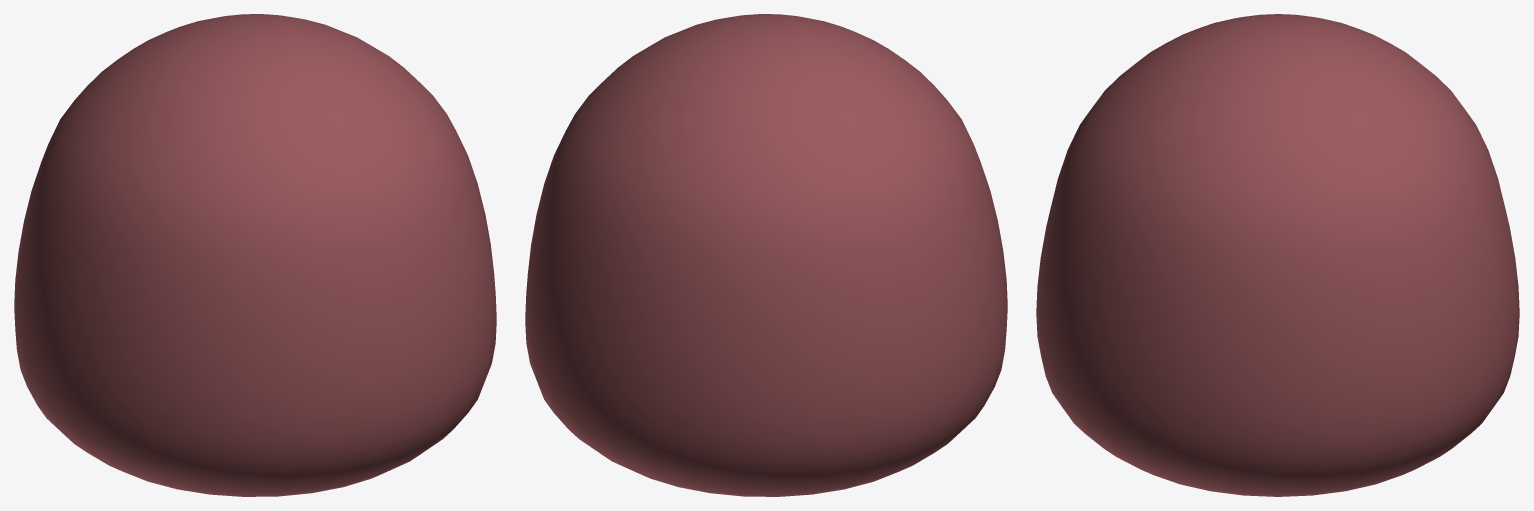
Rendered from kok_collider.fbx.
3 views of the same model, side by side, from view 1: azimuth 30°, elevation 25°; view 2: azimuth 150°, elevation 25°; view 3: azimuth 270°, elevation 25° (orthographic).
Visible parts, largest first — view 1: Sphere; view 2: Sphere; view 3: Sphere.
Boxes of the visible parts, left/top/right/bottom form: Sphere: left=14, top=14, right=496, bottom=496; Sphere: left=525, top=14, right=1007, bottom=496; Sphere: left=1036, top=14, right=1519, bottom=496.
Bounding box in the file's own units: 284 × 264 × 284.
